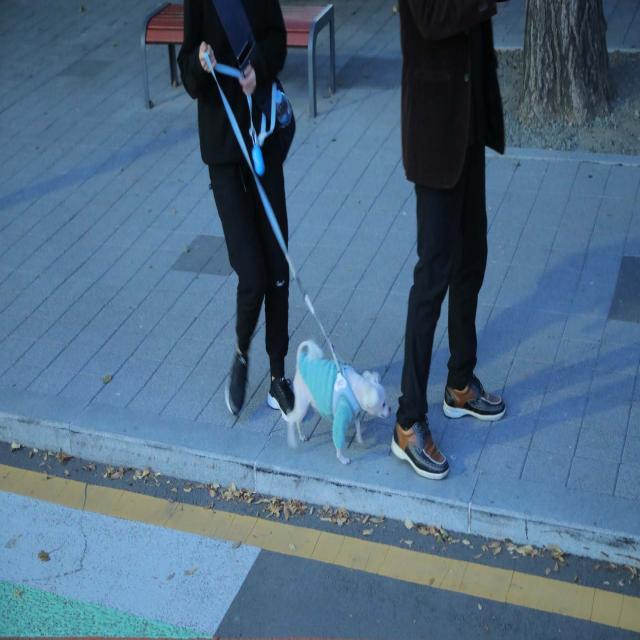Leashed_Dog: (261, 189, 392, 467)
